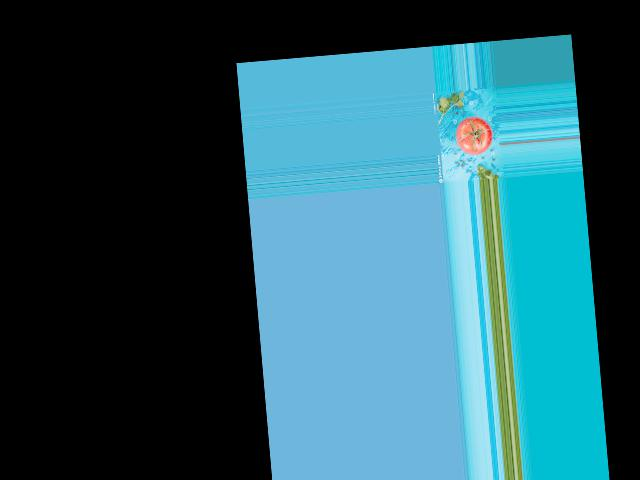tomato: (454, 114, 493, 156)
